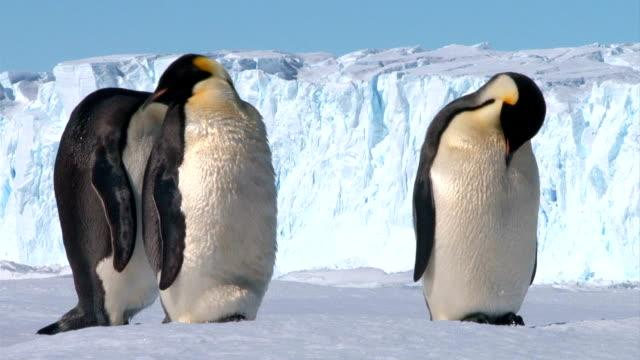emporer: (390, 53, 569, 348), (139, 44, 298, 336)
